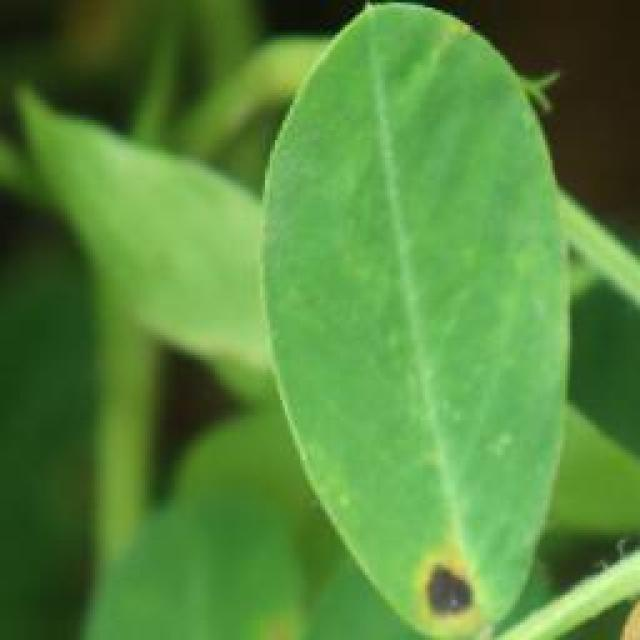Sigatoka: (381, 543, 493, 640)
